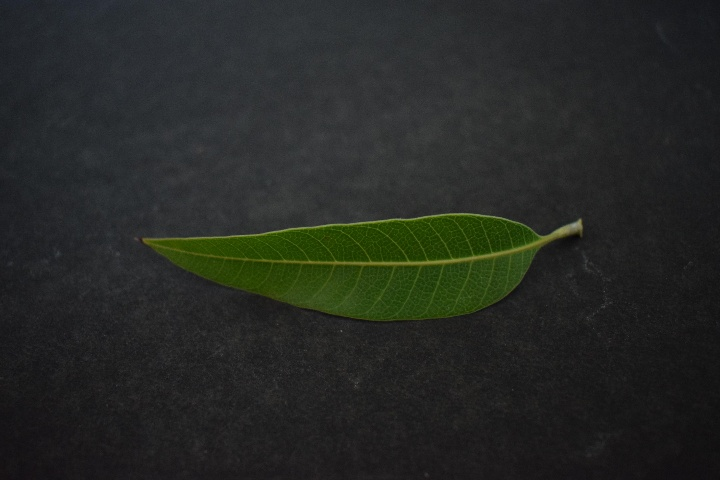healthy: (133, 195, 542, 326)
